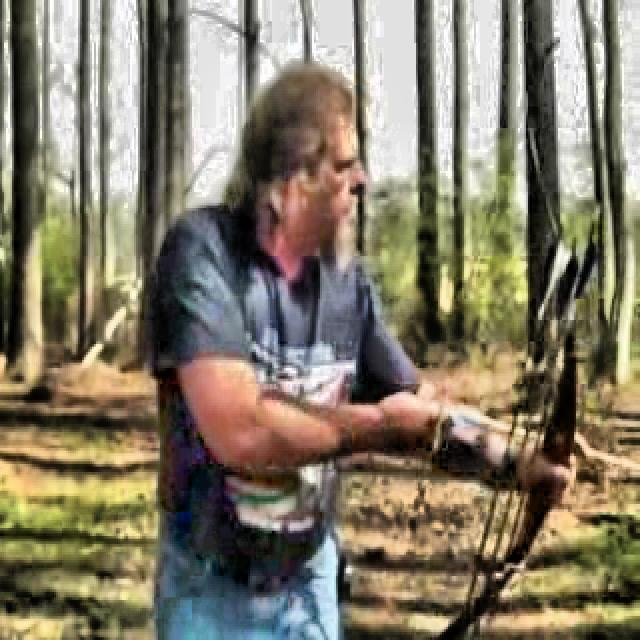I: (142, 54, 592, 576)
